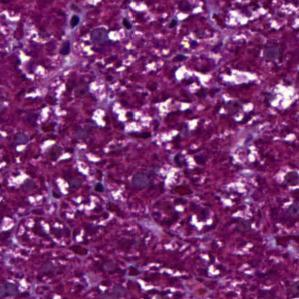inflammation: (111, 105, 149, 136), (219, 91, 250, 125), (271, 163, 299, 192)
